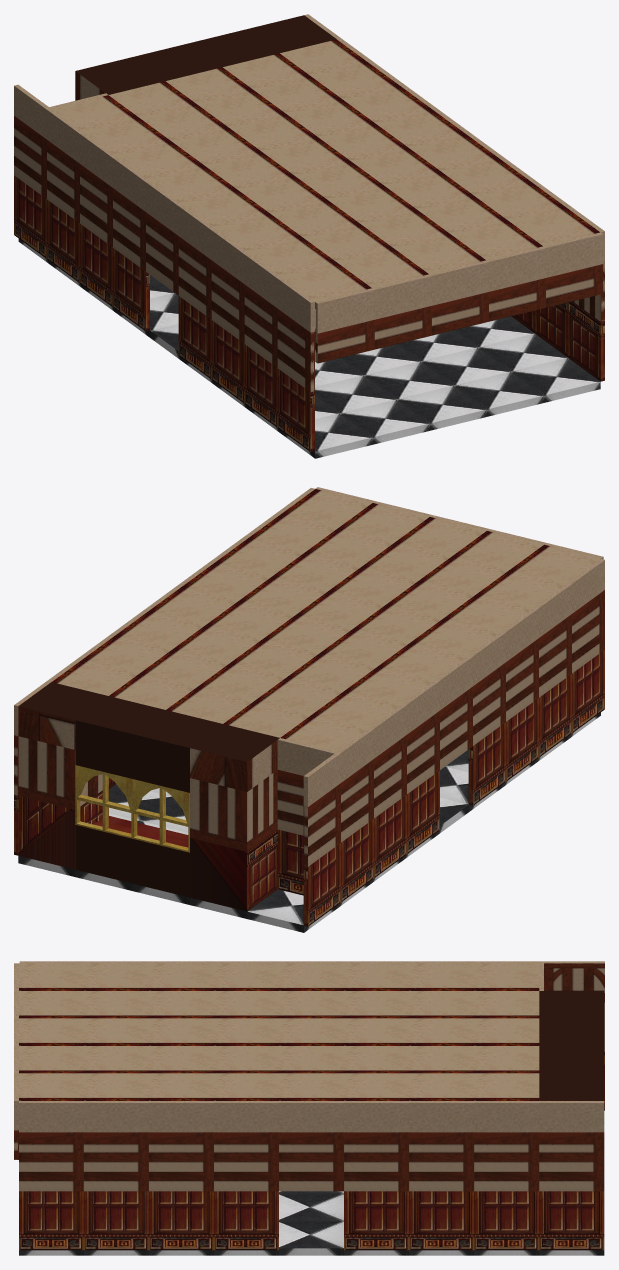
File: DiningRoom.fbx
3 views of the same model, one above another, from view 1: azimuth 30°, elevation 25°; view 2: azimuth 150°, elevation 25°; view 3: azimuth 270°, elevation 25° (orthographic).
Visible parts, largest first — view 1: DiningRoomCeiling, DiningRoomFloorTiles, DiningRoomWallB1Left, DiningRoomWallB2Left, DiningRoomWallB2Front, DiningRoomWallB1Front.001, DiningRoomWallB0Left, DiningRoomWallB0Left.001, DiningRoomWindow, DiningRoomWallB0Right, DiningRoomWallB2Right, DiningRoomWallB1Right; view 2: DiningRoomCeiling, DiningRoomWindow, DiningRoomWallB1Left, DiningRoomWallB2Left, DiningRoomWallB0Left.001, DiningRoomWallB0Left, DiningRoomFloorTiles, DiningRoomWallWindow, DiningRoomWallWindow.001, DiningRoomWallB0Back, DiningRoomWallB1Back, DiningRoomWallB2Right (+2 smaller); view 3: DiningRoomCeiling, DiningRoomWallB1Right, DiningRoomWallB2Right, DiningRoomWallB0Right.001, DiningRoomWallB0Right, DiningRoomFloorTiles, DiningRoomWindow, DiningRoomWallB2Left, DiningRoomWallB2Front.
Part boxes in pixels (box(x1,y1,x2,y2)): DiningRoomCeiling: box(52, 39, 599, 302); DiningRoomFloorTiles: box(18, 239, 600, 458); DiningRoomWallB1Left: box(14, 116, 314, 392); DiningRoomWallB2Left: box(14, 84, 314, 332); DiningRoomWallB2Front: box(315, 232, 603, 333); DiningRoomWallB1Front.001: box(315, 264, 603, 363); DiningRoomWallB0Left: box(178, 296, 314, 451); DiningRoomWallB0Left.001: box(14, 175, 149, 331); DiningRoomWindow: box(75, 15, 336, 100); DiningRoomWallB0Right: box(512, 301, 604, 381); DiningRoomWallB2Right: box(304, 14, 604, 261); DiningRoomWallB1Right: box(573, 261, 604, 321); DiningRoomCeiling: box(51, 489, 600, 751); DiningRoomWindow: box(18, 682, 279, 911); DiningRoomWallB1Left: box(303, 590, 604, 866); DiningRoomWallB2Left: box(303, 559, 604, 806); DiningRoomWallB0Left.001: box(303, 770, 439, 926); DiningRoomWallB0Left: box(468, 650, 604, 805); DiningRoomFloorTiles: box(18, 712, 600, 932); DiningRoomWallWindow: box(132, 779, 189, 852); DiningRoomWallWindow.001: box(75, 765, 132, 838); DiningRoomWallB0Back: box(277, 829, 303, 895); DiningRoomWallB1Back: box(277, 770, 303, 835); DiningRoomWallB2Right: box(14, 488, 314, 735); DiningRoomCeiling: box(19, 963, 539, 1100); DiningRoomWallB1Right: box(19, 1132, 604, 1191); DiningRoomWallB2Right: box(19, 1101, 604, 1132); DiningRoomWallB0Right.001: box(344, 1191, 604, 1250); DiningRoomWallB0Right: box(19, 1191, 278, 1250); DiningRoomFloorTiles: box(19, 1191, 604, 1255); DiningRoomWindow: box(539, 990, 604, 1100); DiningRoomWallB2Left: box(19, 961, 604, 992); DiningRoomWallB2Front: box(14, 963, 18, 1130).
Bounding box in the file's own units: 1030 × 525 × 1817.
